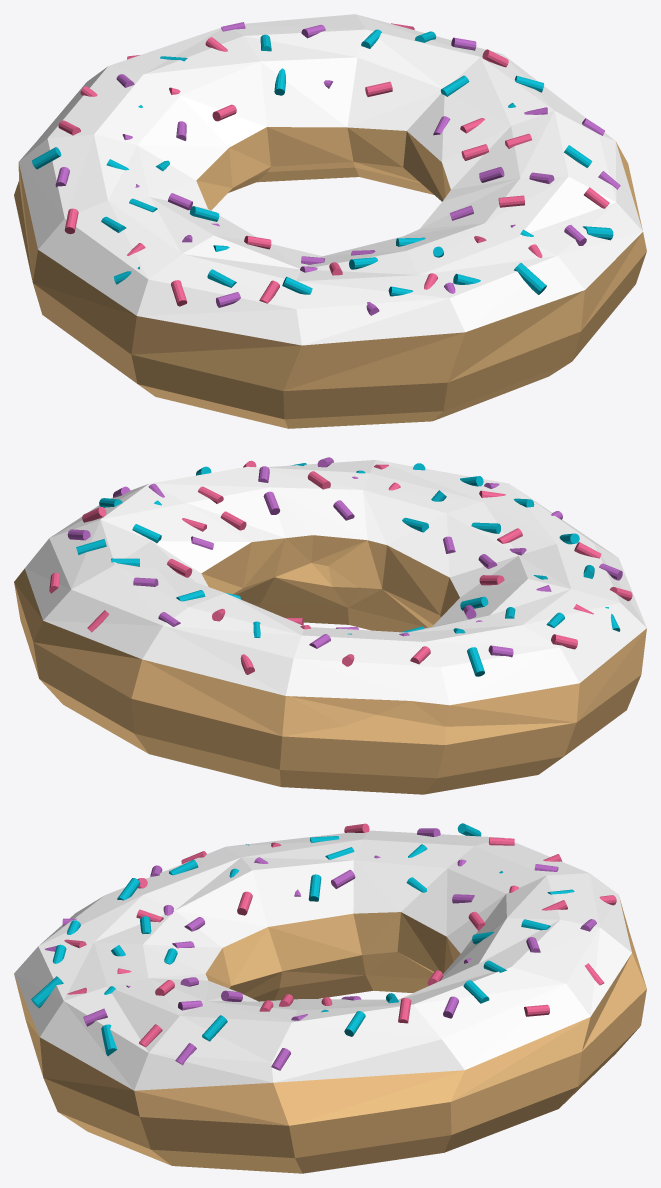
The model's file is Donut.fbx.
3 renders of one model, top to bottom at view 1: azimuth 30°, elevation 25°; view 2: azimuth 150°, elevation 25°; view 3: azimuth 270°, elevation 25°, orthographic.
Parts seen in each view (by area): view 1: group_93197796; view 2: group_93197796; view 3: group_93197796.
Boxes of the visible parts, x1,y1,x2,y2 form: group_93197796: [14, 14, 646, 428]; group_93197796: [14, 457, 646, 794]; group_93197796: [14, 823, 646, 1173].
Bounding box in the file's own units: 56.51 × 19.92 × 57.2.
